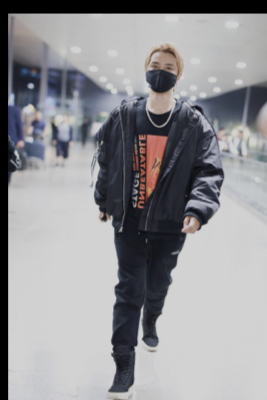with_mask: (145, 59, 177, 93)
